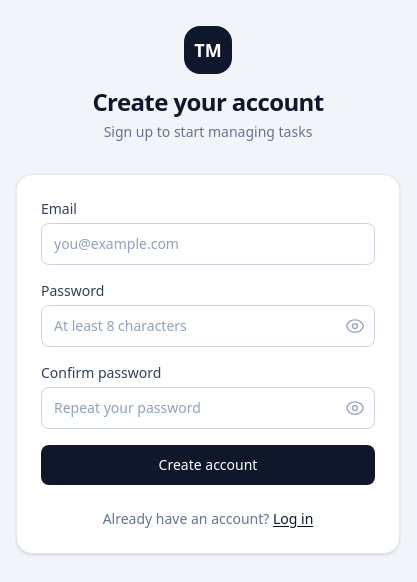
Test case: RegisterPage › rejects mismatched passwords
Type "a@b.com" into the field labelled "Email" at coordinates (208, 244), box x1=41 y1=223 x2=375 y2=265
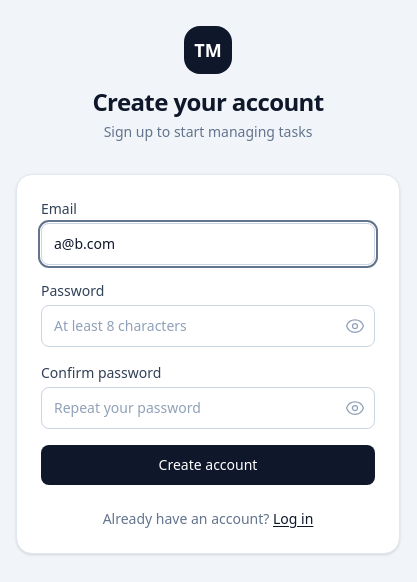
Type "password123" into the password field labelled "Password" at coordinates (208, 326), box x1=41 y1=305 x2=375 y2=347
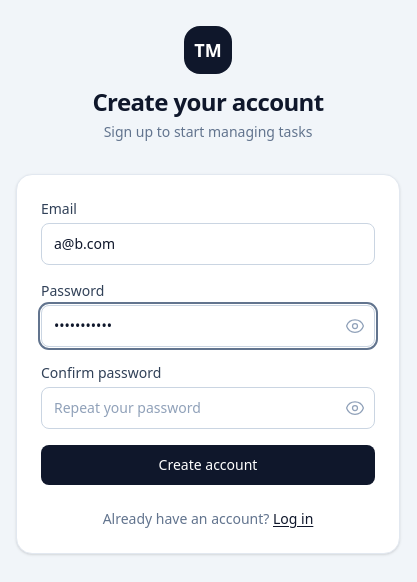
Type "different" into the password field labelled "Confirm password" at coordinates (208, 408), box x1=41 y1=387 x2=375 y2=429
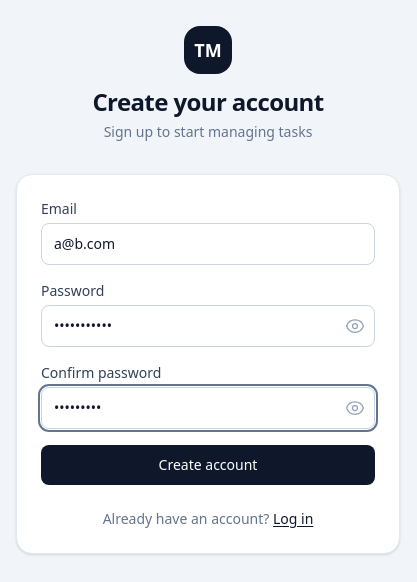
Click the button "Create account" at coordinates (208, 465), box x1=41 y1=445 x2=375 y2=485
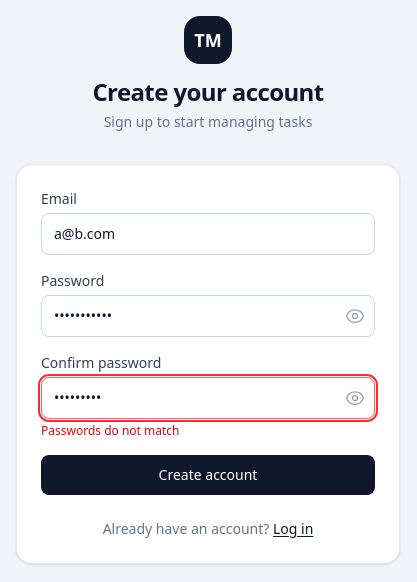
Check: the text "Passwords do not match" is shown, box x1=41 y1=422 x2=180 y2=439
